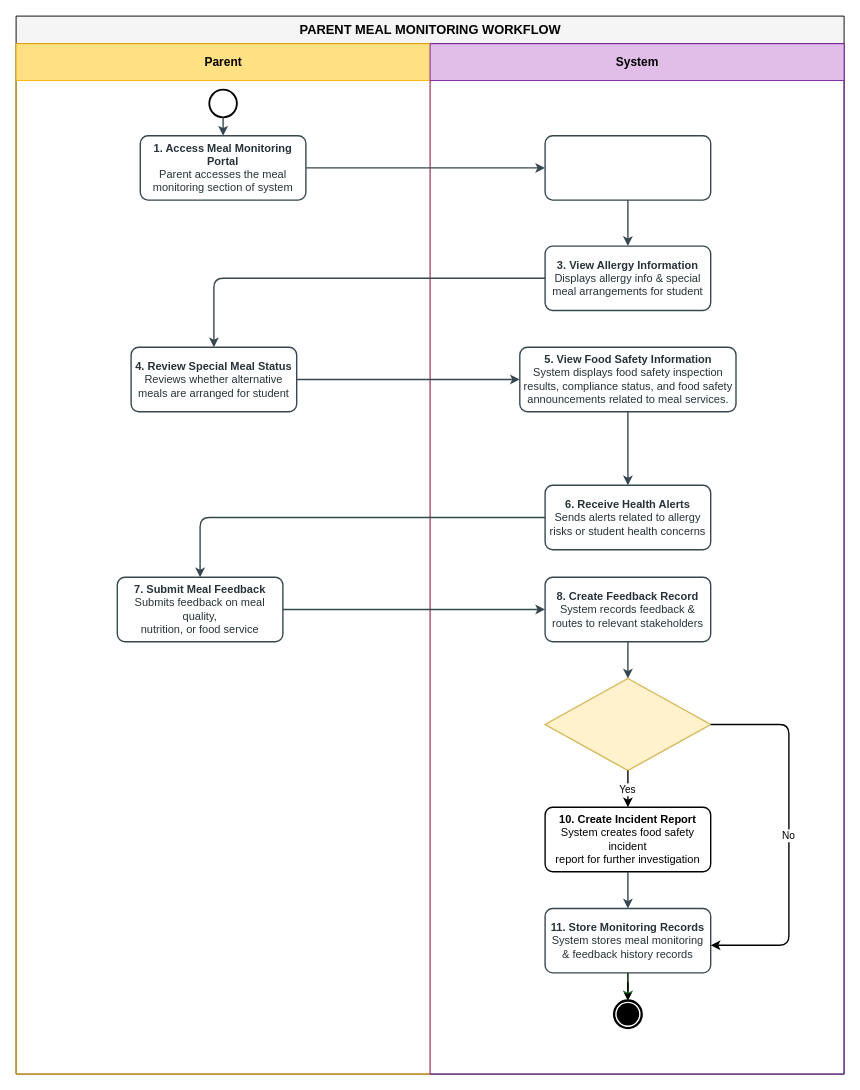
Image size: 860x1090. Some labels were removed from this diagram. Here are the shapes that lost their labels. From the top down, the box of each, then its label:
(544, 135, 711, 200): 2. View Published Menu System displays approved menus for upcoming meal periods
(544, 677, 711, 771): 9. Feedback Requires Investigation?
